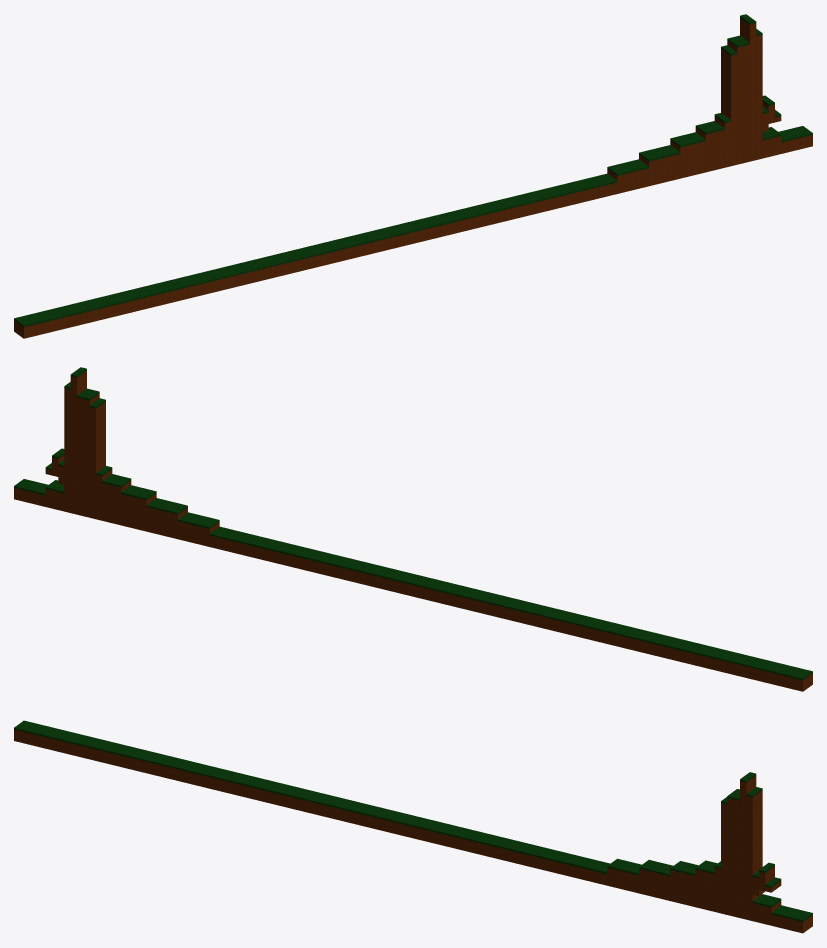
Rendered from EndRoom3BasePiso-f74e4a5bf61c.glb.
The picture shows the model from 3 angles, top to bottom: view 1: azimuth 30°, elevation 25°; view 2: azimuth 150°, elevation 25°; view 3: azimuth 330°, elevation 25°; orthographic projection.
Visible parts, largest first — view 1: Setor_3, Setor_2, Setor_0, Setor_1; view 2: Setor_3, Setor_2, Setor_0, Setor_1; view 3: Setor_3, Setor_2, Setor_0, Setor_1.
Part boxes in pixels (x1,y1,x2,y2): Setor_3: [620, 14, 812, 190]; Setor_2: [418, 164, 629, 239]; Setor_0: [14, 269, 225, 338]; Setor_1: [216, 220, 427, 289]; Setor_3: [14, 367, 206, 543]; Setor_2: [197, 517, 408, 592]; Setor_0: [601, 622, 812, 691]; Setor_1: [399, 573, 610, 642]; Setor_3: [620, 772, 812, 933]; Setor_2: [418, 819, 629, 888]; Setor_0: [14, 720, 225, 789]; Setor_1: [216, 770, 427, 839].
Bounding box in the file's own units: 130 × 21.84 × 2.84.
1 material, 1 textured.
